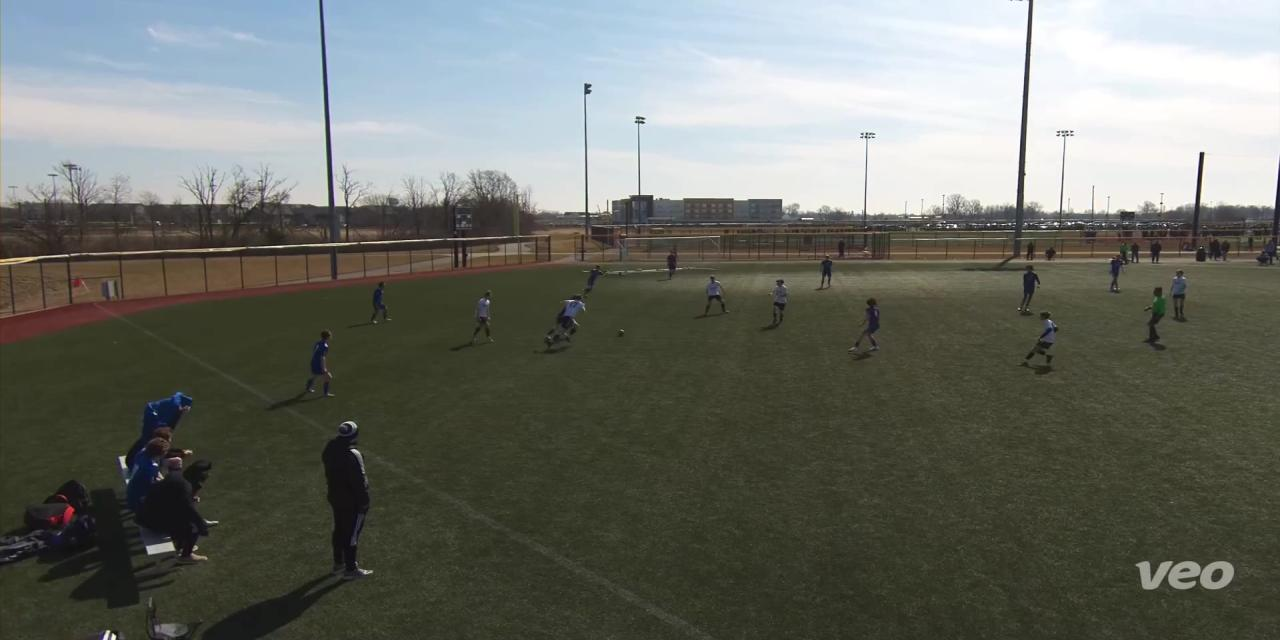goal: (596, 231, 728, 277)
sports ball: (614, 325, 630, 343)
